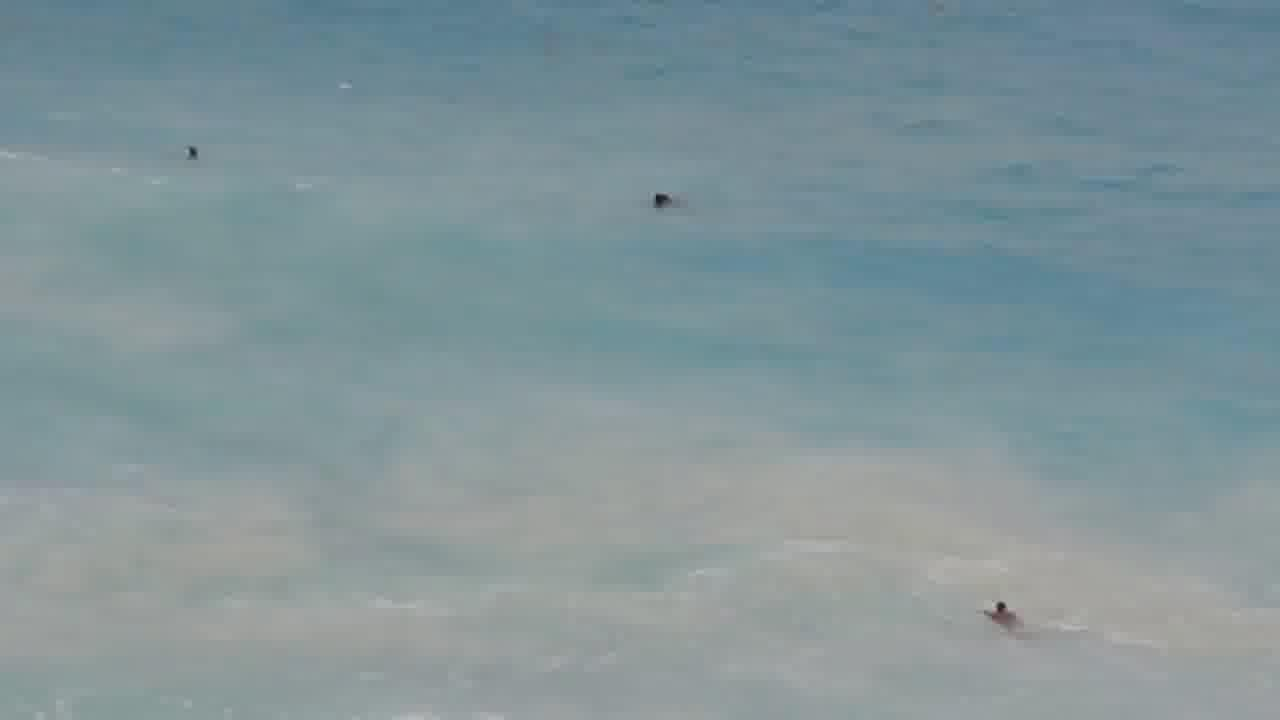swimmer: (618, 181, 710, 228), (969, 585, 1042, 625), (167, 123, 209, 167)
